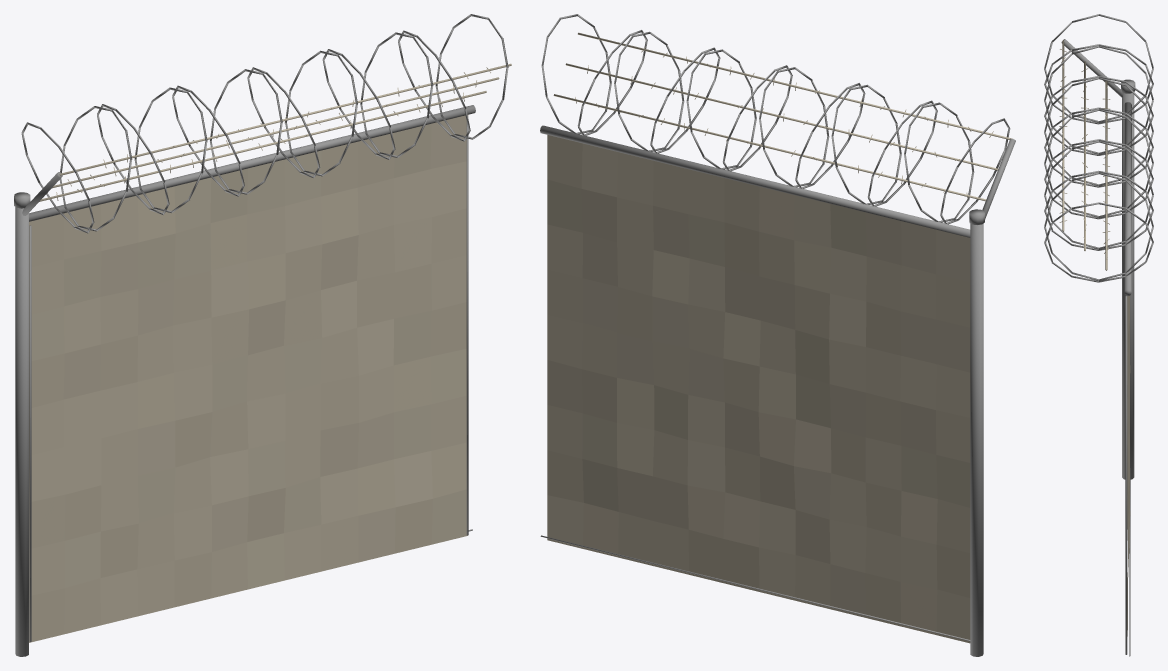
The model's file is hood_fence_chain.glb.
3 renders of one model, left to right at view 1: azimuth 30°, elevation 25°; view 2: azimuth 150°, elevation 25°; view 3: azimuth 270°, elevation 25°, orthographic. The views are drawn at different scales.
Parts seen in each view (by area): view 1: hood_fence_chain, arm.001, barb.057; view 2: hood_fence_chain, arm.001, barb.057; view 3: arm.001, barb.057, hood_fence_chain.
Boxes of the visible parts, x1,y1,x2,y2 form: hood_fence_chain: [29, 115, 468, 642]; arm.001: [14, 14, 508, 656]; barb.057: [39, 63, 511, 201]; hood_fence_chain: [547, 135, 970, 643]; arm.001: [540, 14, 1015, 656]; barb.057: [553, 32, 1012, 201]; arm.001: [1044, 14, 1153, 656]; barb.057: [1059, 40, 1110, 270]; hood_fence_chain: [1127, 295, 1130, 636].
Size of the model in its own units: 2.54 by 2.85 by 0.6114.
